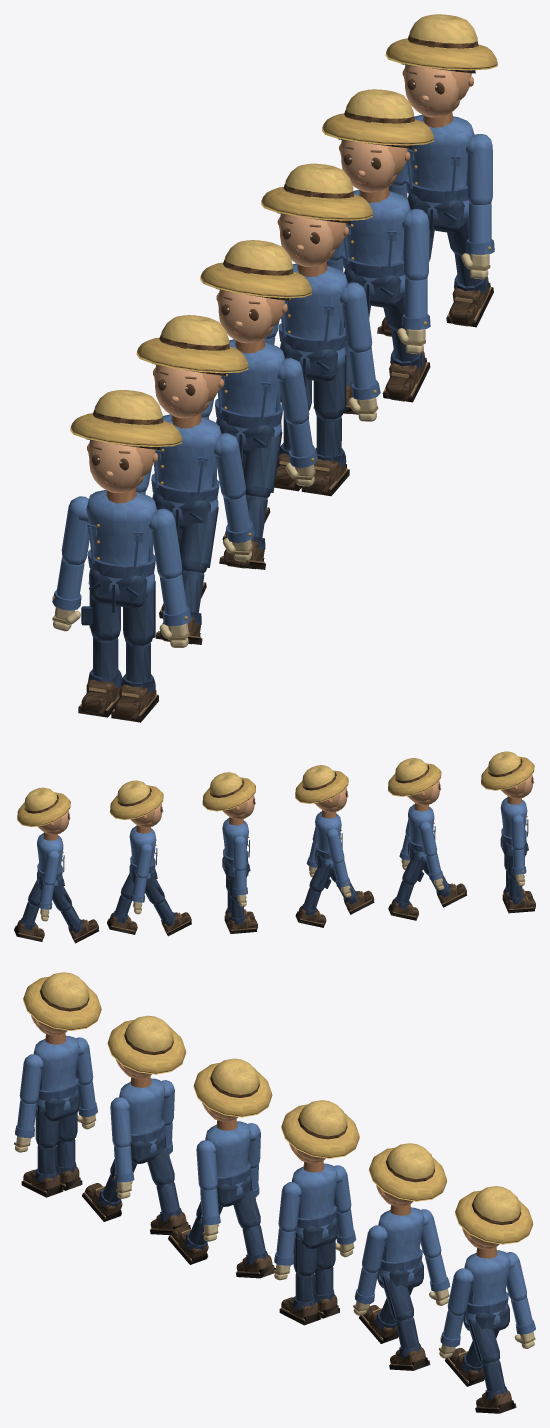
Rendered from ba-walk-side-after.glb.
3 views of the same model, one above another, from view 1: azimuth 30°, elevation 25°; view 2: azimuth 150°, elevation 25°; view 3: azimuth 270°, elevation 25° (orthographic). The views are drawn at different scales.
Parts seen in each view (by area): view 1: denimJacketTorso (×6), strawHat (×6), head (×6), leftShin (×6), leftUpperArm (×6), trouserHips (×6), leftLowerArm (×6), leftThigh (×4), rightShin (×2), rightUpperArm, rightThigh, rightLowerArm; view 2: strawHat (×6), denimJacketTorso (×6), rightShin (×6), rightUpperArm (×6), leftShin (×4), head (×6), rightLowerArm (×6), rightThigh (×4); view 3: strawHat (×6), denimJacketTorso (×6), leftShin (×6), rightShin (×6), leftUpperArm (×6), leftLowerArm (×6), trouserHips (×6), leftThigh (×4), rightUpperArm (×4), rightLowerArm (×4), rightThigh (×2).
Boxes of the visible parts, left/top/right/bottom form: denimJacketTorso (×6): left=86, top=112, right=474, bottom=595; strawHat (×6): left=70, top=14, right=497, bottom=446; head (×6): left=86, top=64, right=475, bottom=492; leftShin (×6): left=111, top=253, right=493, bottom=722; leftUpperArm (×6): left=149, top=134, right=492, bottom=578; trouserHips (×6): left=89, top=193, right=467, bottom=612; leftLowerArm (×6): left=159, top=203, right=494, bottom=626; leftThigh (×4): left=123, top=354, right=346, bottom=645; rightShin (×2): left=78, top=413, right=308, bottom=717; rightUpperArm: left=61, top=496, right=89, bottom=565; rightThigh: left=81, top=585, right=120, bottom=640; rightLowerArm: left=52, top=557, right=84, bottom=610; strawHat (×6): left=17, top=751, right=534, bottom=826; denimJacketTorso (×6): left=37, top=796, right=528, bottom=885; rightShin (×6): left=60, top=877, right=535, bottom=943; rightUpperArm (×6): left=43, top=814, right=525, bottom=885; leftShin (×4): left=14, top=875, right=466, bottom=941; head (×6): left=37, top=774, right=534, bottom=834; rightLowerArm (×6): left=38, top=848, right=526, bottom=909; rightThigh (×4): left=52, top=856, right=425, bottom=911; strawHat (×6): left=23, top=972, right=532, bottom=1244; denimJacketTorso (×6): left=33, top=1033, right=510, bottom=1326; leftShin (×6): left=21, top=1145, right=516, bottom=1413; rightShin (×6): left=56, top=1138, right=484, bottom=1386; leftUpperArm (×6): left=19, top=1054, right=473, bottom=1315; leftLowerArm (×6): left=15, top=1100, right=464, bottom=1346; trouserHips (×6): left=44, top=1089, right=509, bottom=1332; leftThigh (×4): left=35, top=1105, right=500, bottom=1363; rightUpperArm (×4): left=75, top=1037, right=526, bottom=1301; rightLowerArm (×4): left=77, top=1081, right=535, bottom=1334; rightThigh (×2): left=147, top=1145, right=260, bottom=1228.
Size of what is drawn, in the model's own units: 6.05 by 2.42 by 5.3.
